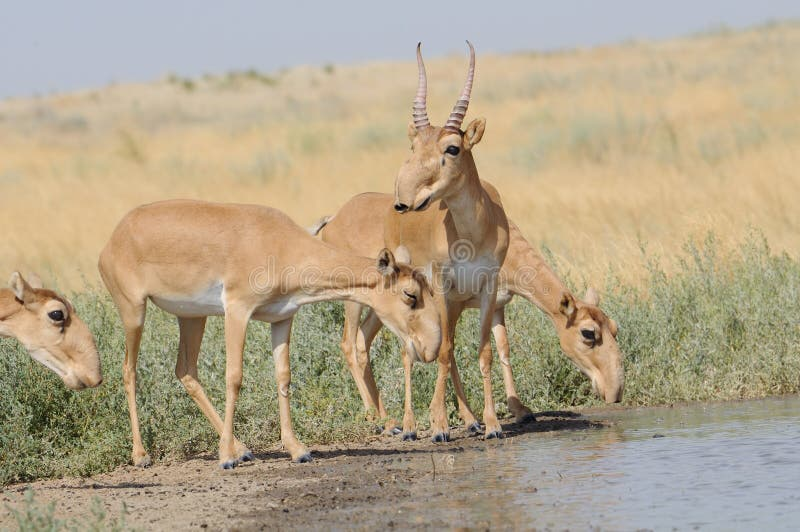saiga: (94, 199, 437, 459), (341, 27, 511, 442)
